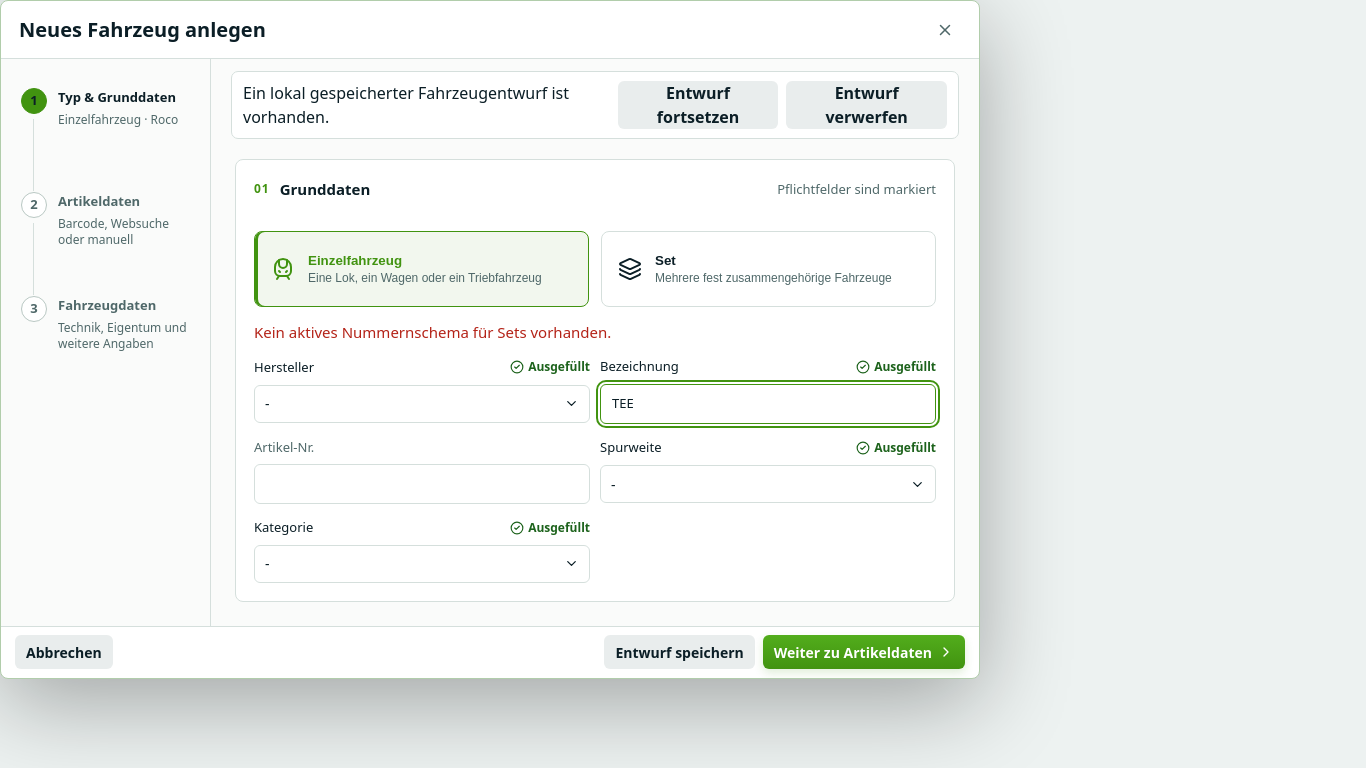
Test: VehicleCreateWizard set safeguards › opens the first invalid member instead of submitting the set
The image size is (1366, 768).
Click the button "Entwurf fortsetzen" at (698, 105), box [618,81,778,129]
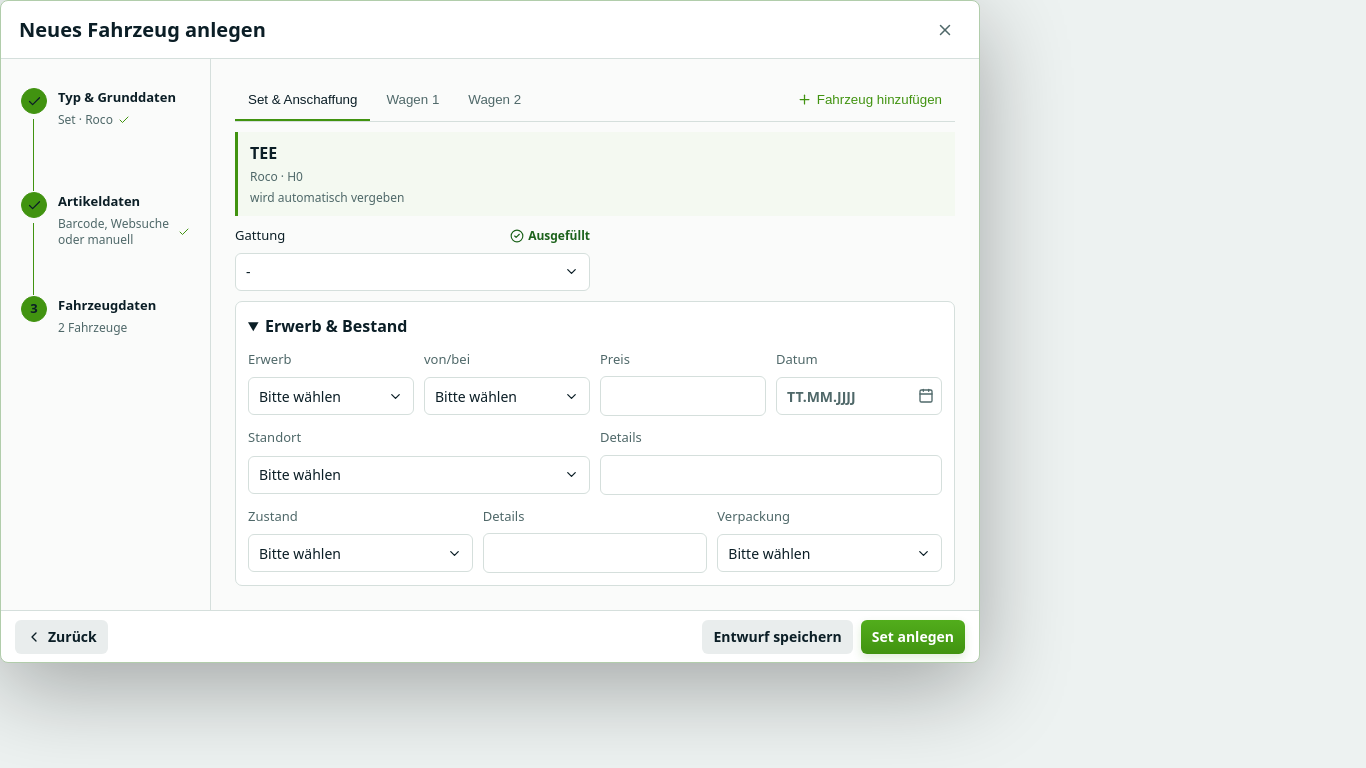
Click the button "Set anlegen" at (913, 636), box [861,620,965,654]
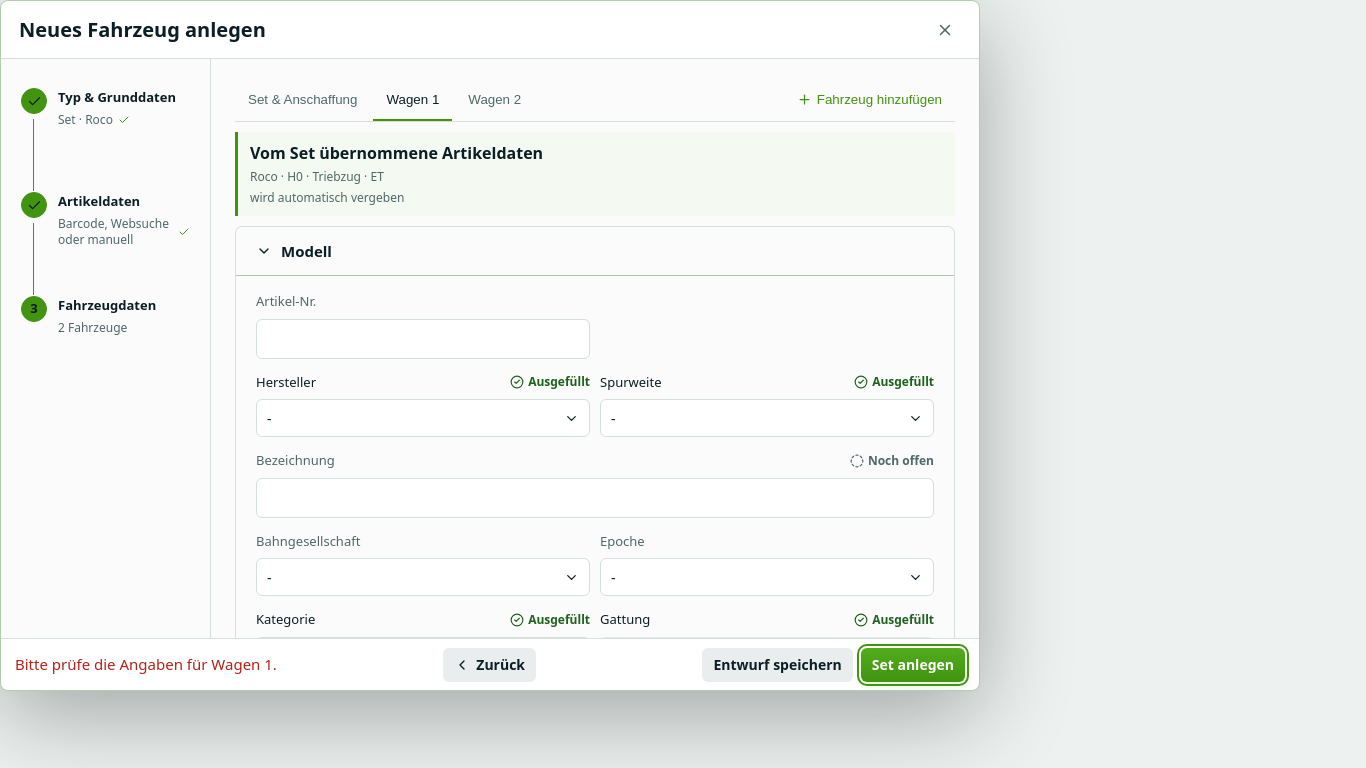
Now the text "Bitte prüfe die Angaben für Wagen 1." is shown, box [15,653,277,676]
